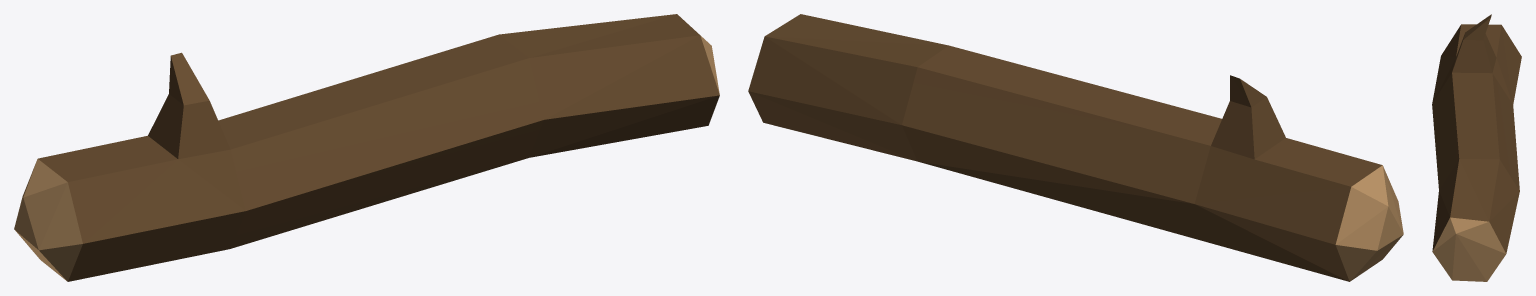
File: branch_01.glb
The picture shows the model from 3 angles, left to right: view 1: azimuth 30°, elevation 25°; view 2: azimuth 150°, elevation 25°; view 3: azimuth 270°, elevation 25°; orthographic projection. The views are drawn at different scales.
Parts seen in each view (by area): view 1: Branch_01; view 2: Branch_01; view 3: Branch_01.
Part boxes in pixels (left/top/right/bottom): Branch_01: left=14, top=14, right=719, bottom=281; Branch_01: left=748, top=14, right=1403, bottom=281; Branch_01: left=1432, top=14, right=1521, bottom=281.
Size of the model in its own units: 0.814 by 0.2106 by 0.1494.
Materials: 1 (1 with a texture image).
